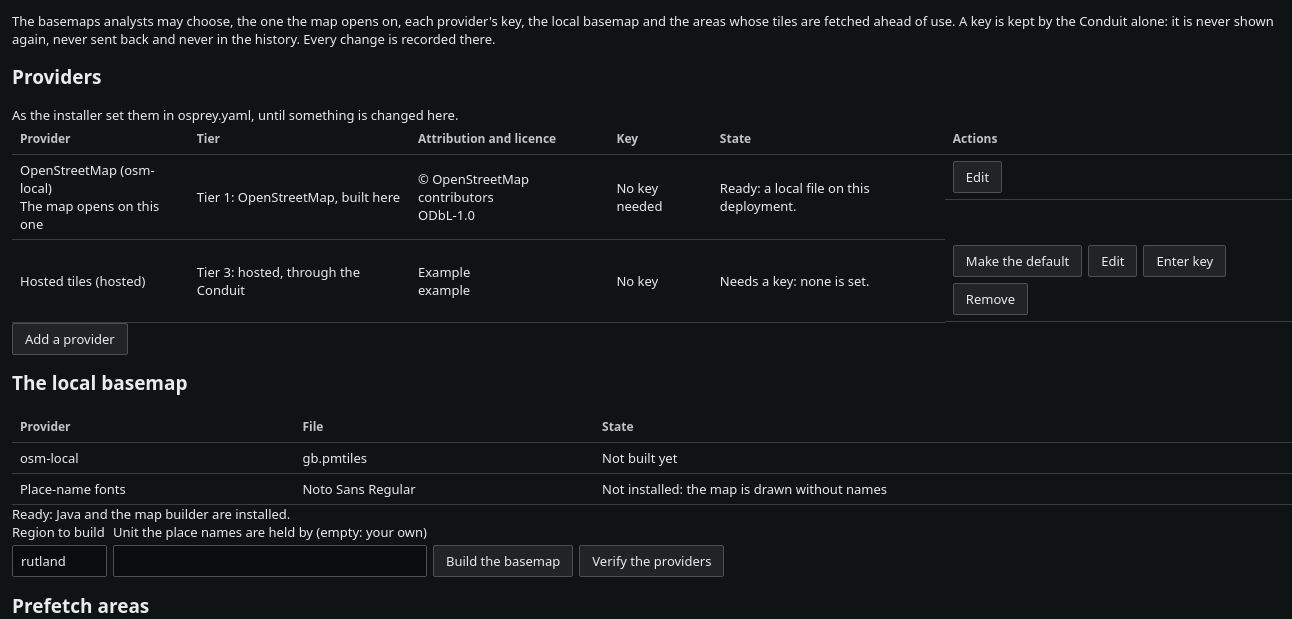
Test case: Maps › shows the Conduit's refusal in its words and still never the key
The image size is (1292, 619).
Step 1. Click the button with aria-label "Enter key for Hosted tiles" → click(1185, 261), box [1144,245,1226,277]
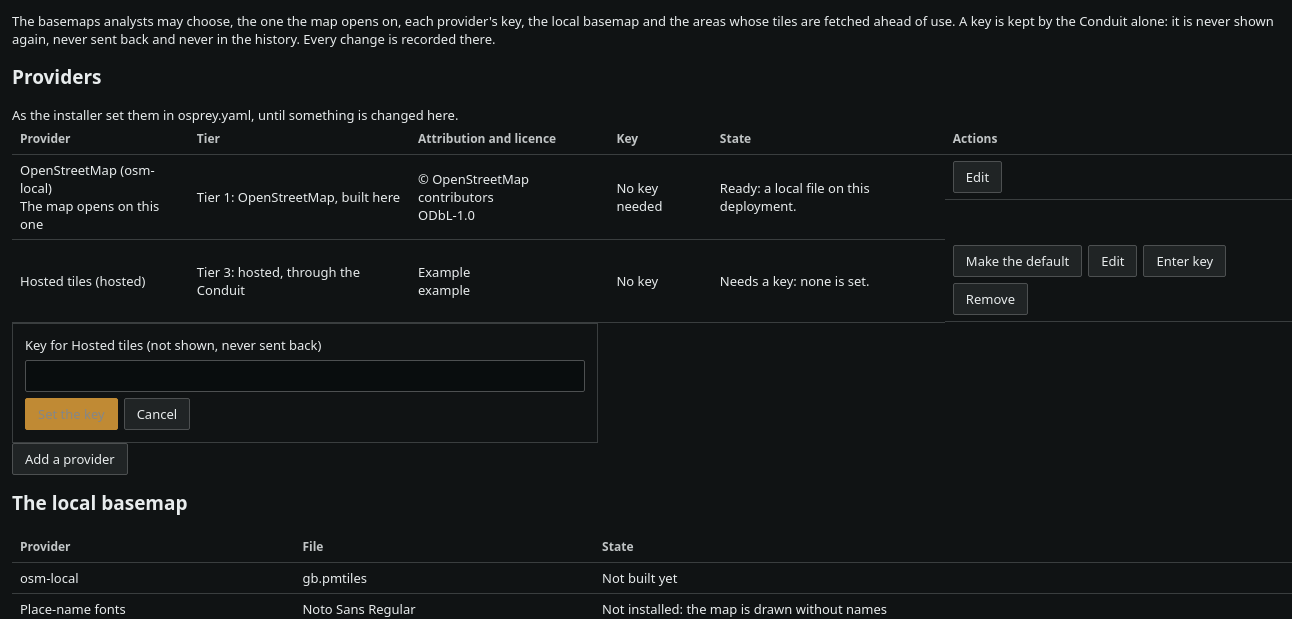
Step 2. Type "k-PLANTED-glass-map-key-H6J2" into the password field labelled "Key for Hosted tiles (not shown, never sent back)" → (305, 376), box [25,360,585,392]
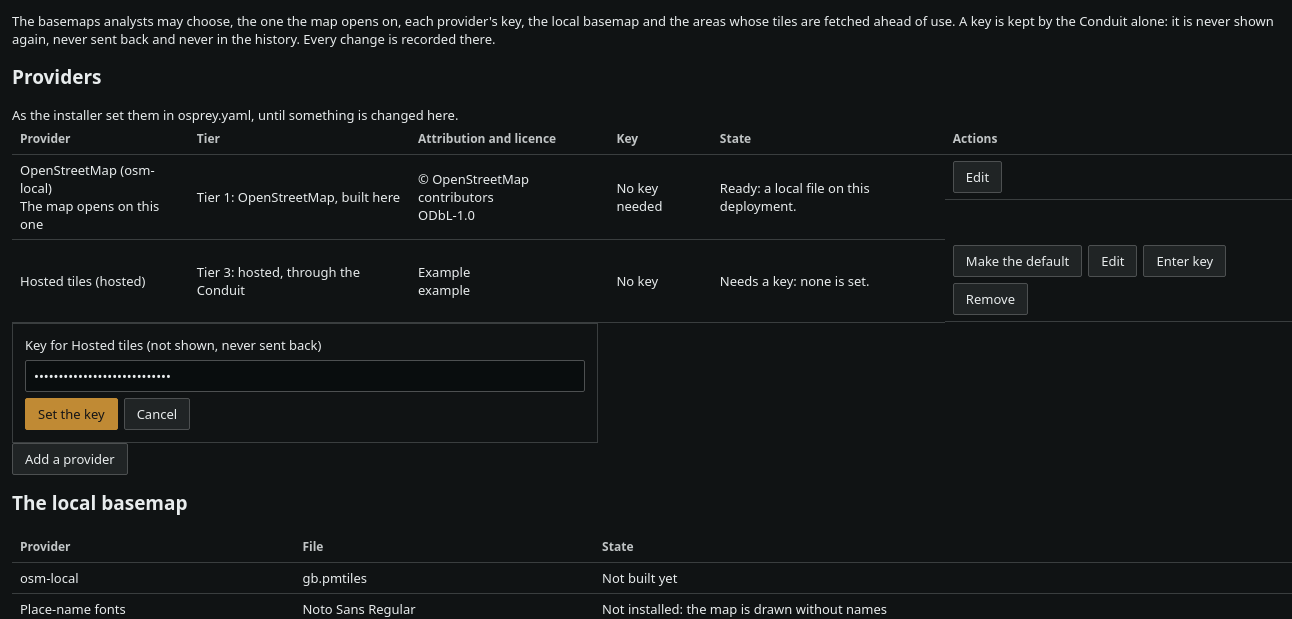
Step 3. Click the button "Set the key" → click(71, 414), box [25,398,118,430]
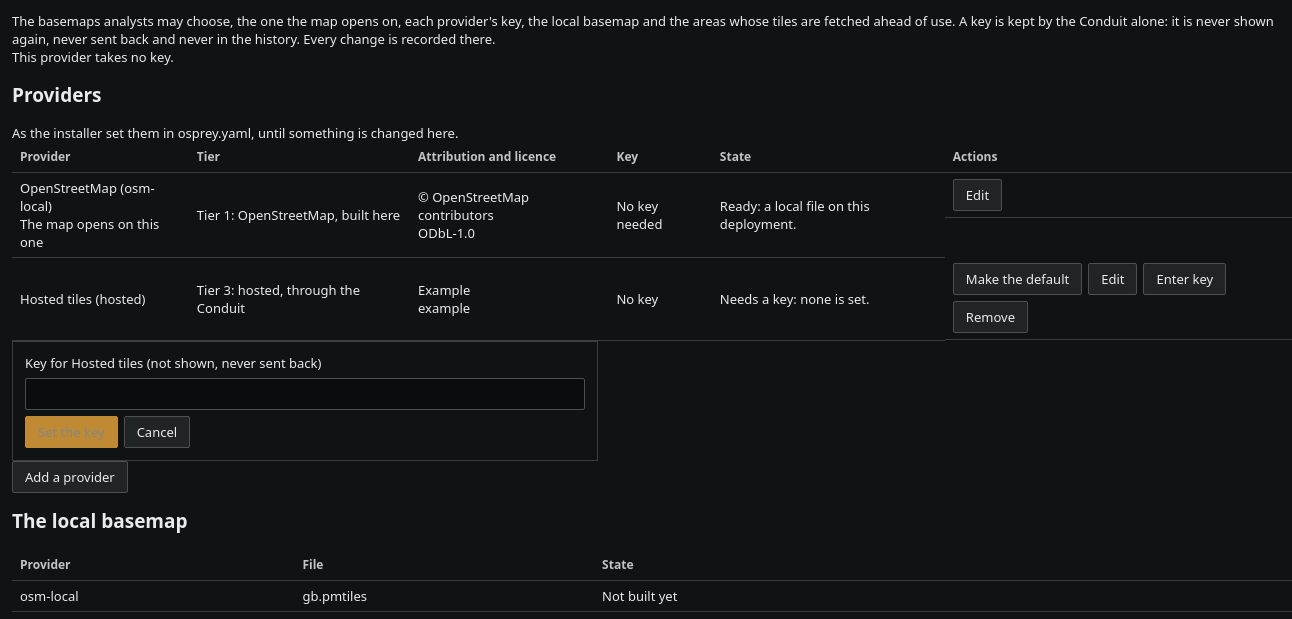
expect the message reads "This provider takes no key.": met, box [12,48,174,66]
